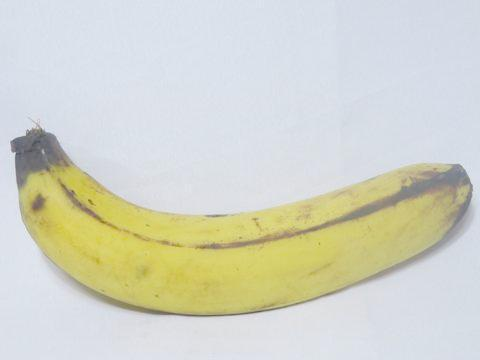ripe: (6, 101, 479, 324)
